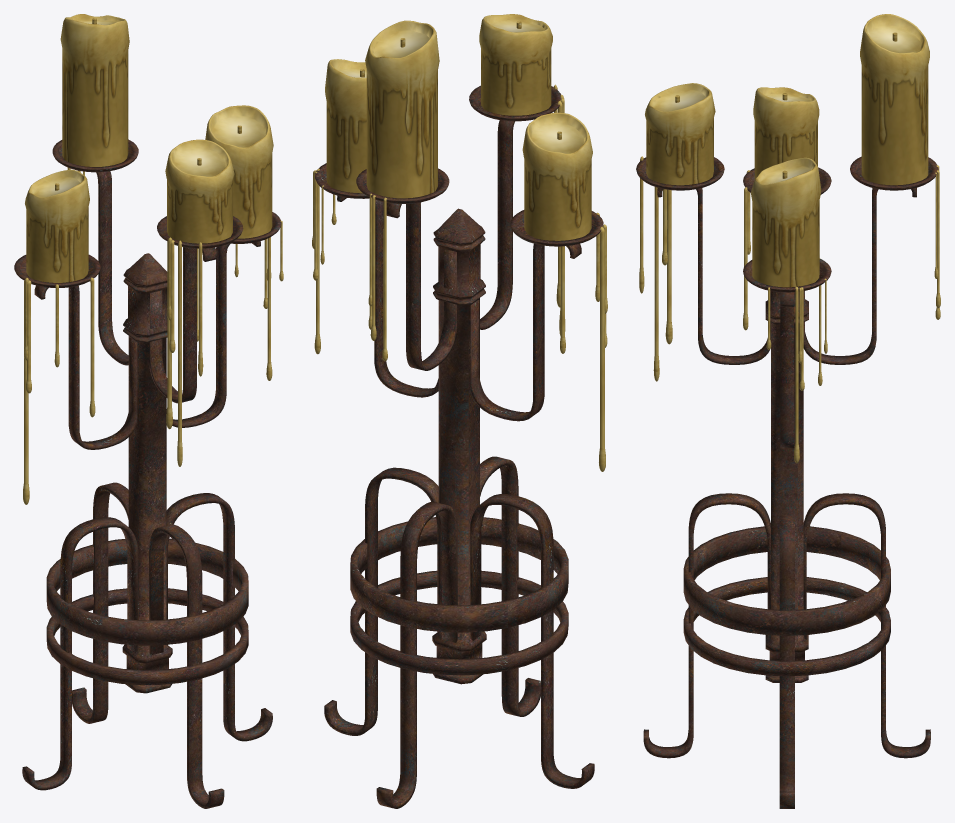
Rendered from Lantern 2.FBX.
3 views of the same model, side by side, from view 1: azimuth 30°, elevation 25°; view 2: azimuth 150°, elevation 25°; view 3: azimuth 270°, elevation 25° (orthographic). The views are drawn at different scales.
Parts seen in each view (by area): view 1: Lantern 2; view 2: Lantern 2; view 3: Lantern 2.
Boxes of the visible parts, bbox=[...] form: Lantern 2: bbox=[14, 14, 283, 808]; Lantern 2: bbox=[312, 14, 607, 808]; Lantern 2: bbox=[636, 14, 940, 808].
Size of the model in its own units: 52.01 by 136 by 51.55.
Materials: 2 (2 with a texture image).
